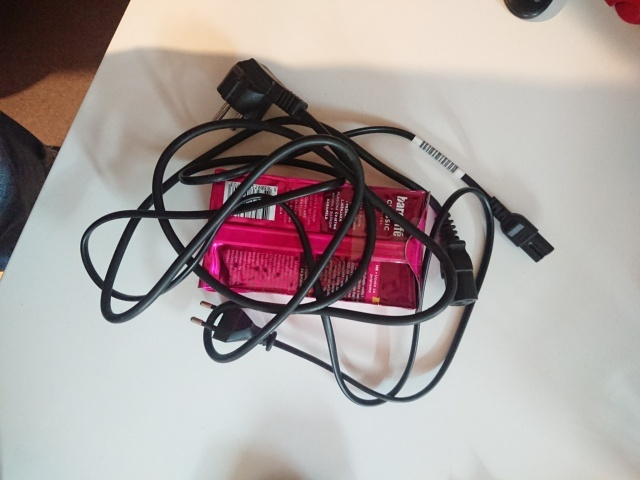Barcaffe Classic Original 225g: (194, 171, 435, 316)
